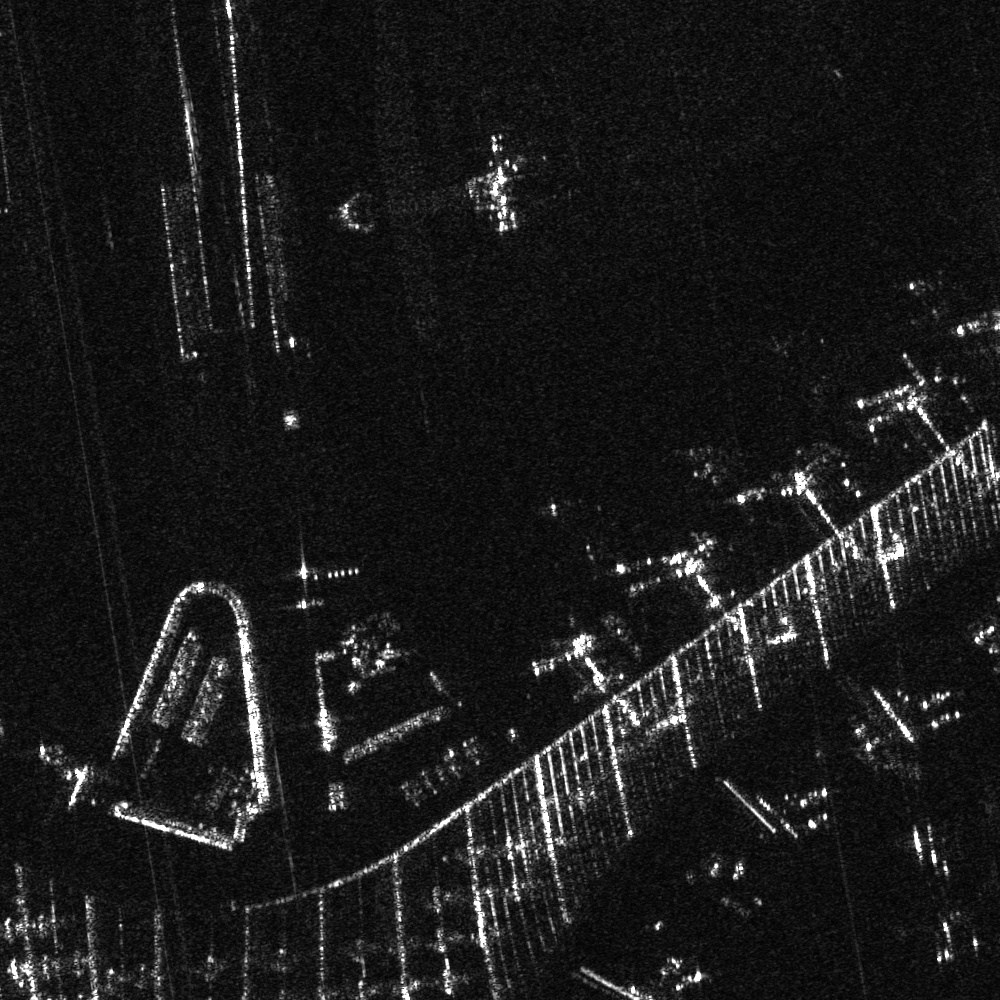A220: (908, 278, 961, 322)
